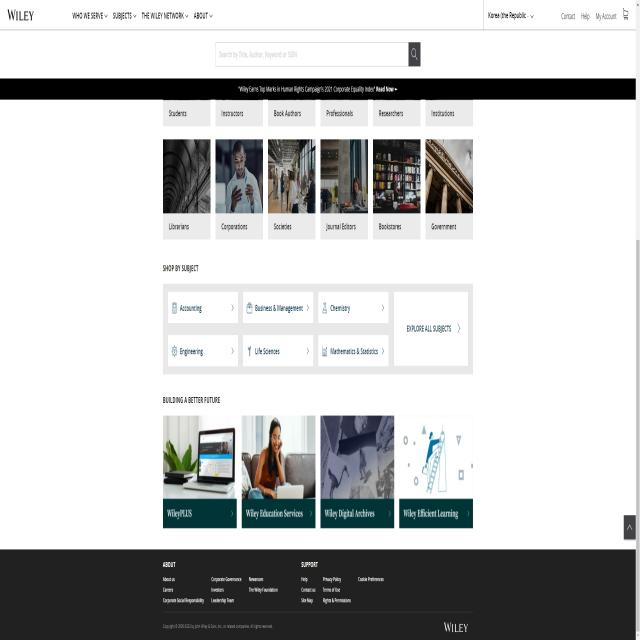menu-bar: (481, 4, 632, 32)
search: (214, 38, 420, 68)
tab-bar: (67, 3, 217, 27)
